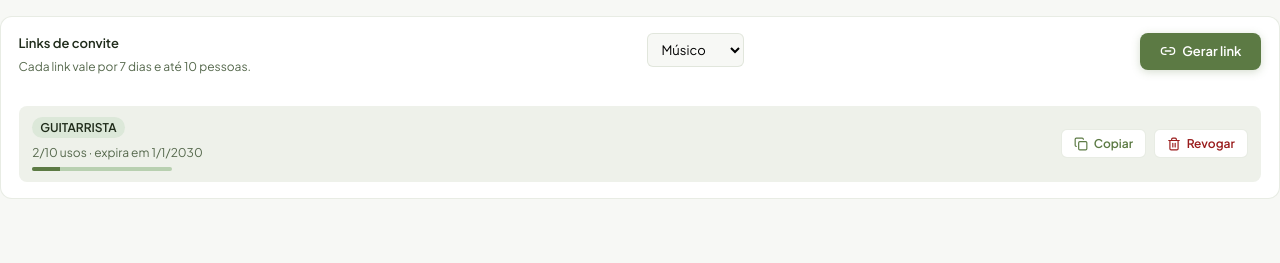
Test: InviteLinksPanel › mostra erro e mantém o link se a revogação falhar
The image size is (1280, 263).
Expected: the text "GUITARRISTA" is shown, x1=32 y1=117 x2=125 y2=138
Click the button titled "Revogar link" at (1201, 144), box x1=1154 y1=130 x2=1248 y2=158
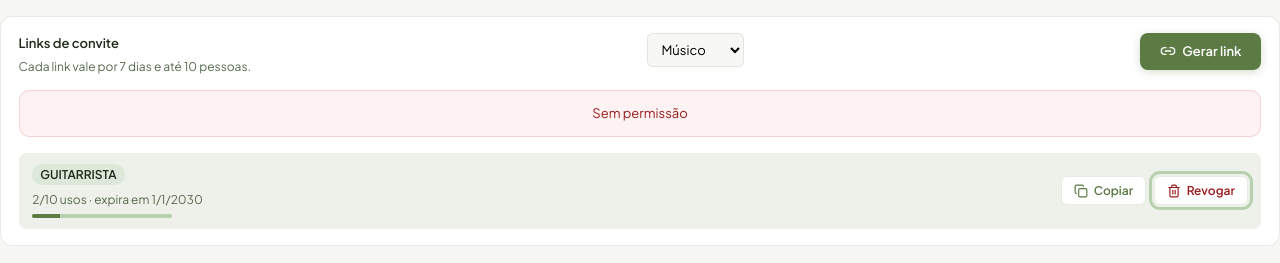
Expected: the text "GUITARRISTA" is shown, x1=32 y1=164 x2=125 y2=185
Result: the text "Sem permissão" is shown at x1=19 y1=90 x2=1261 y2=137
